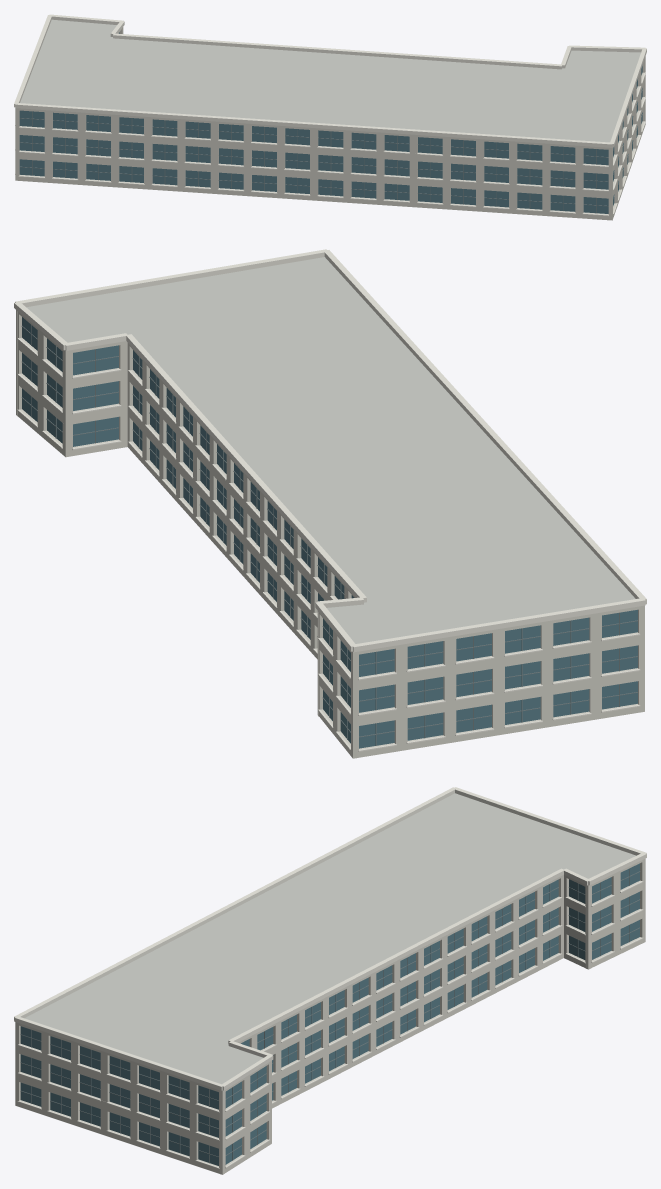
3 renders of one model, top to bottom at view 1: azimuth 30°, elevation 25°; view 2: azimuth 150°, elevation 25°; view 3: azimuth 270°, elevation 25°, orthographic. The views are drawn at different scales.
Visible parts, largest first — view 1: roof, wall, glass, trim, metal; view 2: roof, wall, glass, trim, metal; view 3: roof, wall, glass, trim, metal.
Part boxes in pixels (left/top/right/bottom): roof: left=20, top=19, right=640, bottom=142; wall: left=15, top=27, right=645, bottom=220; glass: left=19, top=32, right=642, bottom=213; trim: left=14, top=14, right=646, bottom=216; metal: left=19, top=64, right=642, bottom=213; roof: left=26, top=257, right=635, bottom=643; wall: left=16, top=310, right=644, bottom=758; glass: left=22, top=317, right=637, bottom=748; trim: left=14, top=249, right=646, bottom=751; metal: left=21, top=325, right=637, bottom=745; roof: left=24, top=793, right=635, bottom=1084; wall: left=15, top=858, right=645, bottom=1174; glass: left=20, top=863, right=639, bottom=1165; trim: left=14, top=787, right=646, bottom=1168; metal: left=20, top=868, right=640, bottom=1163.
Size of the model in its own units: 70.72 by 9.74 by 63.09.
